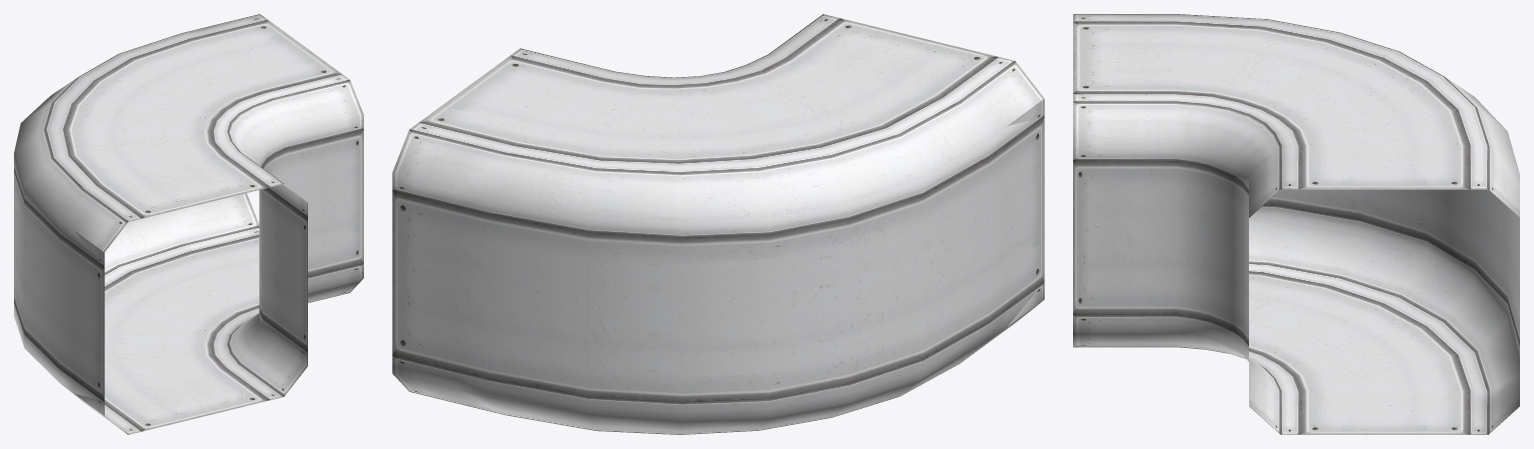
File: CeilingBrace_CornerInnercapped.FBX
3 views of the same model, side by side, from view 1: azimuth 30°, elevation 25°; view 2: azimuth 150°, elevation 25°; view 3: azimuth 270°, elevation 25° (orthographic). The views are drawn at different scales.
Parts seen in each view (by area): view 1: CeilingBrace_CornerInnercapped; view 2: CeilingBrace_CornerInnercapped; view 3: CeilingBrace_CornerInnercapped.
Part boxes in pixels (left/top/right/bottom): CeilingBrace_CornerInnercapped: left=14, top=14, right=363, bottom=434; CeilingBrace_CornerInnercapped: left=392, top=14, right=1044, bottom=434; CeilingBrace_CornerInnercapped: left=1073, top=14, right=1519, bottom=434.
Size of the model in its own units: 2.15 by 1.3 by 2.15.
